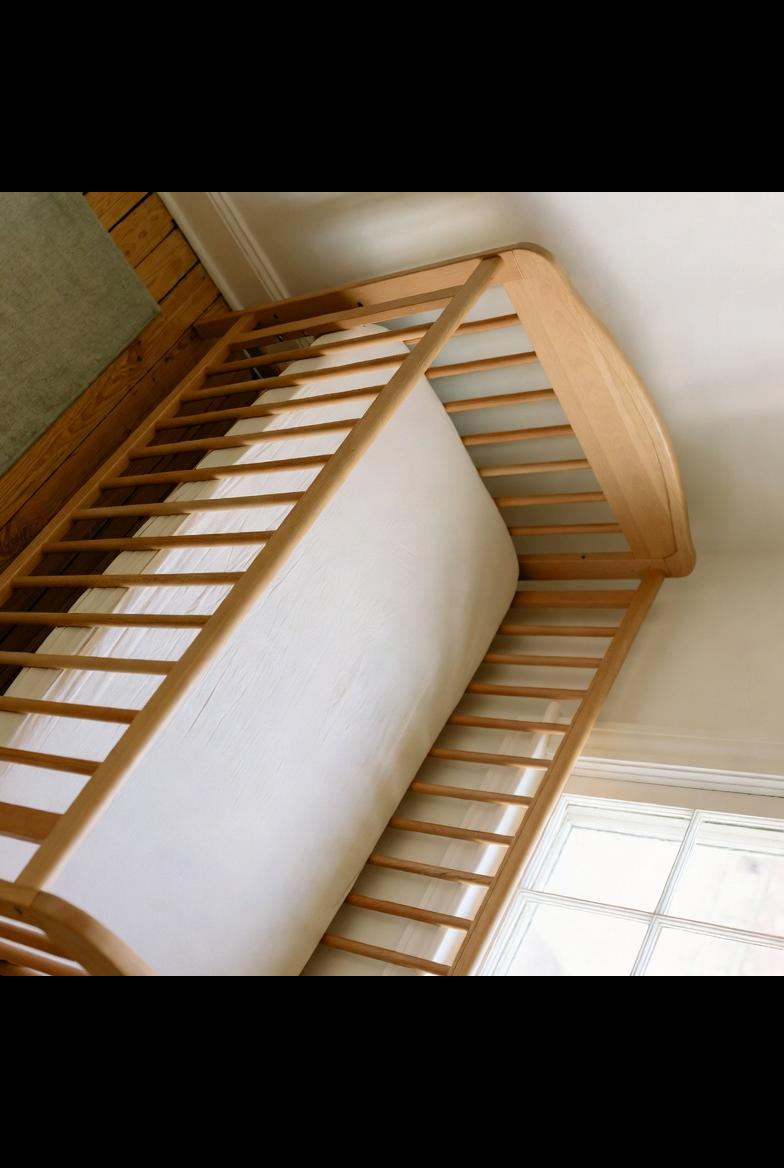crib: (0, 225, 723, 976)
